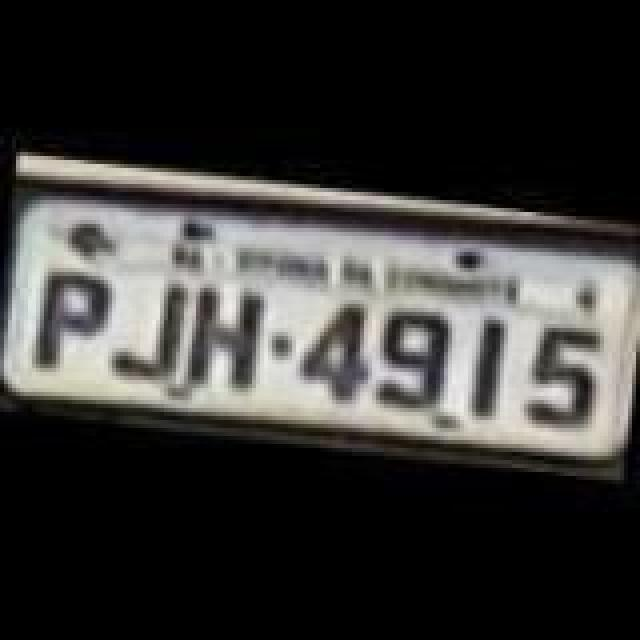1: (464, 316, 512, 428)
4: (298, 298, 382, 410)
5: (526, 326, 614, 442)
9: (374, 308, 458, 420)
H: (176, 286, 272, 402)
J: (98, 274, 190, 390)
P: (32, 268, 112, 380)
